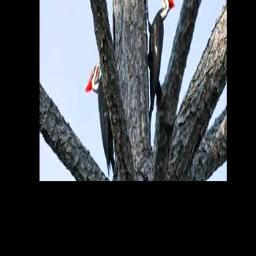Woodpecker: (85, 51, 115, 176), (145, 0, 174, 122)
